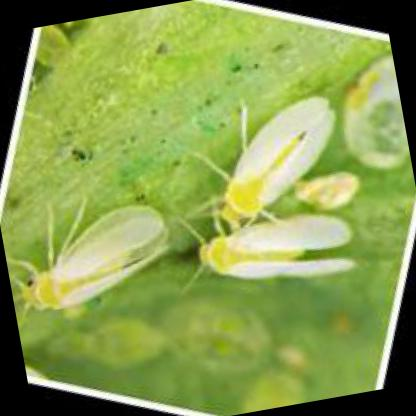whitefly: (16, 206, 170, 308), (225, 94, 337, 229), (197, 212, 355, 280)
